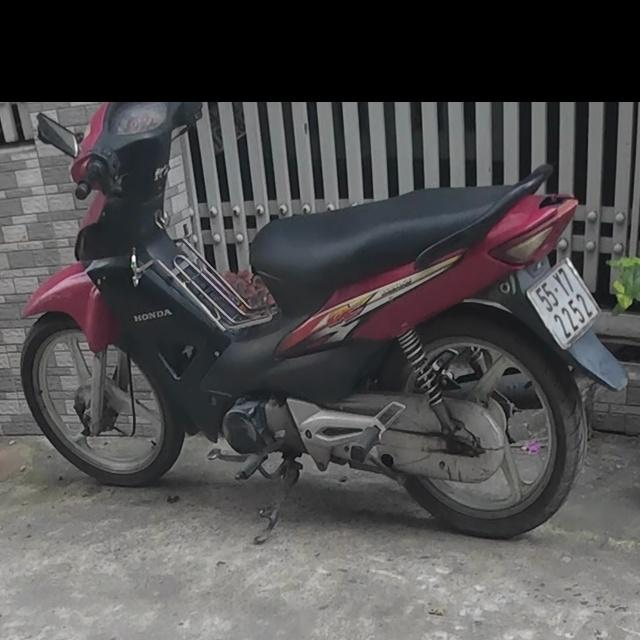license-plate: (524, 259, 599, 348)
